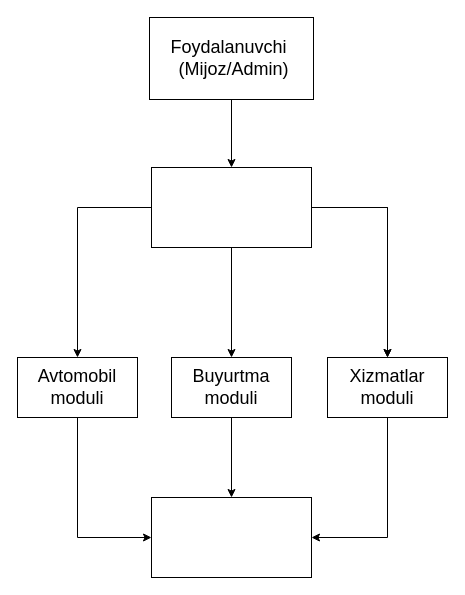
The diagram is 465 pixels wide and 595 high, and some of its shapes have lost their labels. Here are the shapes that lost their labels. From the top down, the centre of each, then its label:
At (x=231, y=207): "Foydalanuvchi boshqaruvi".
At (x=231, y=537): "To'lovlar moduli".
